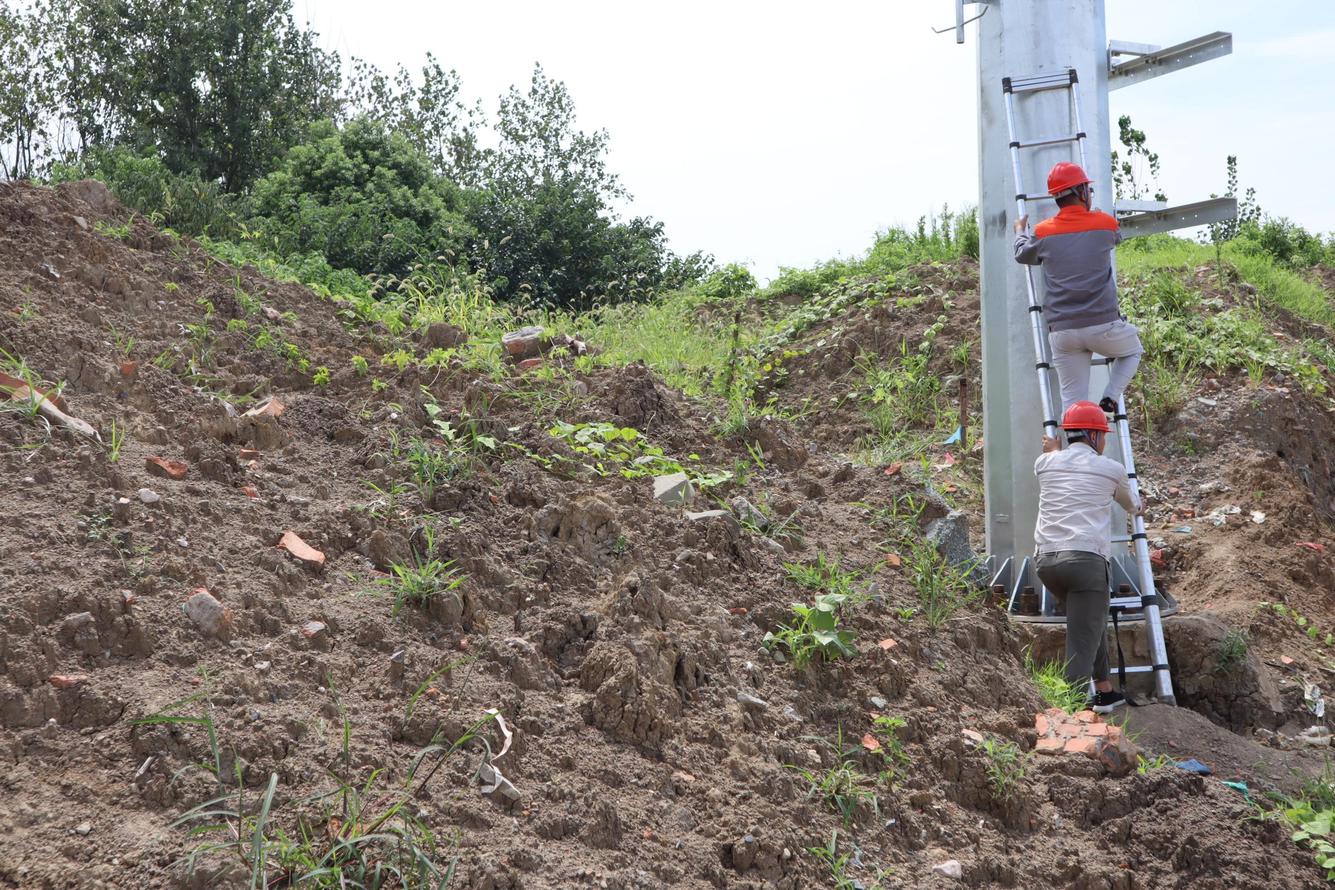未系安全绳的工作人员: (1010, 160, 1145, 449)
